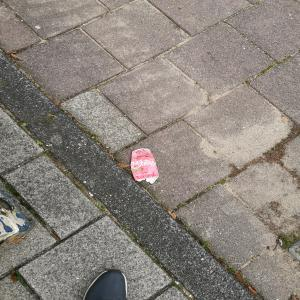Can: (128, 146, 166, 187)
